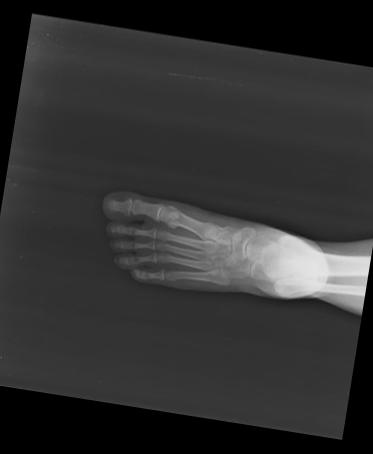fractured: (205, 222, 229, 245)
